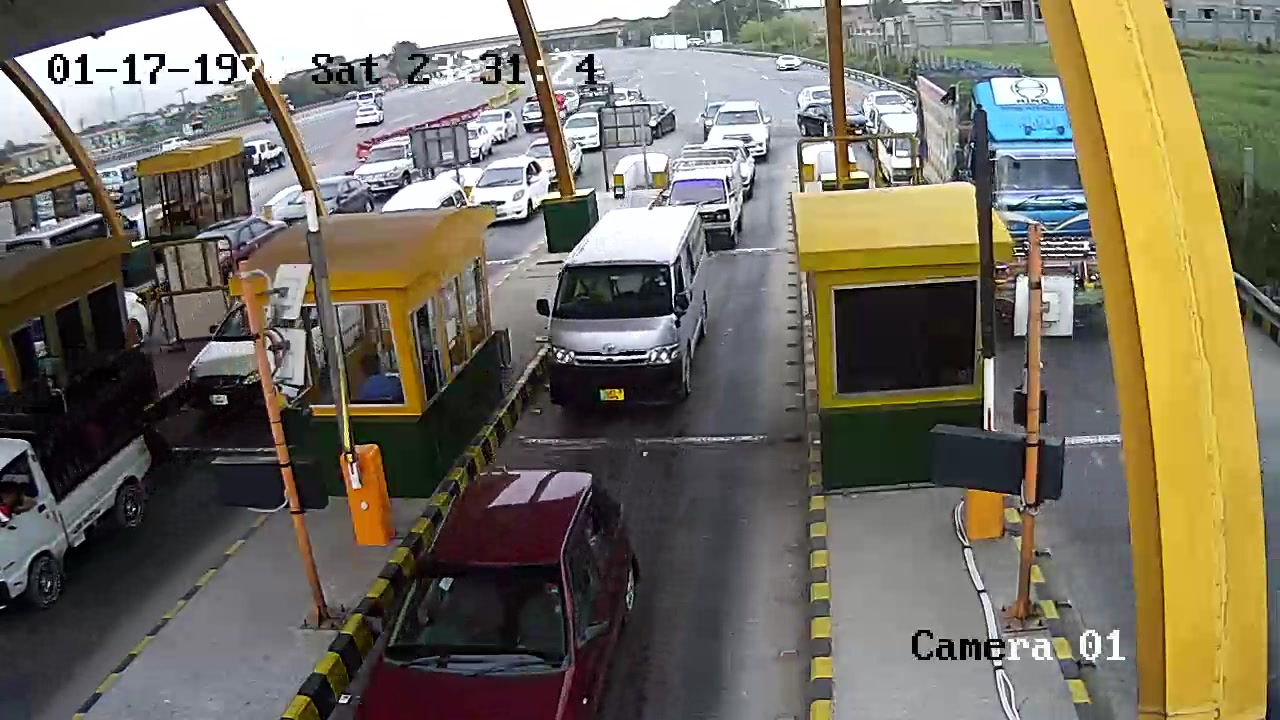F2: (534, 196, 714, 417)
